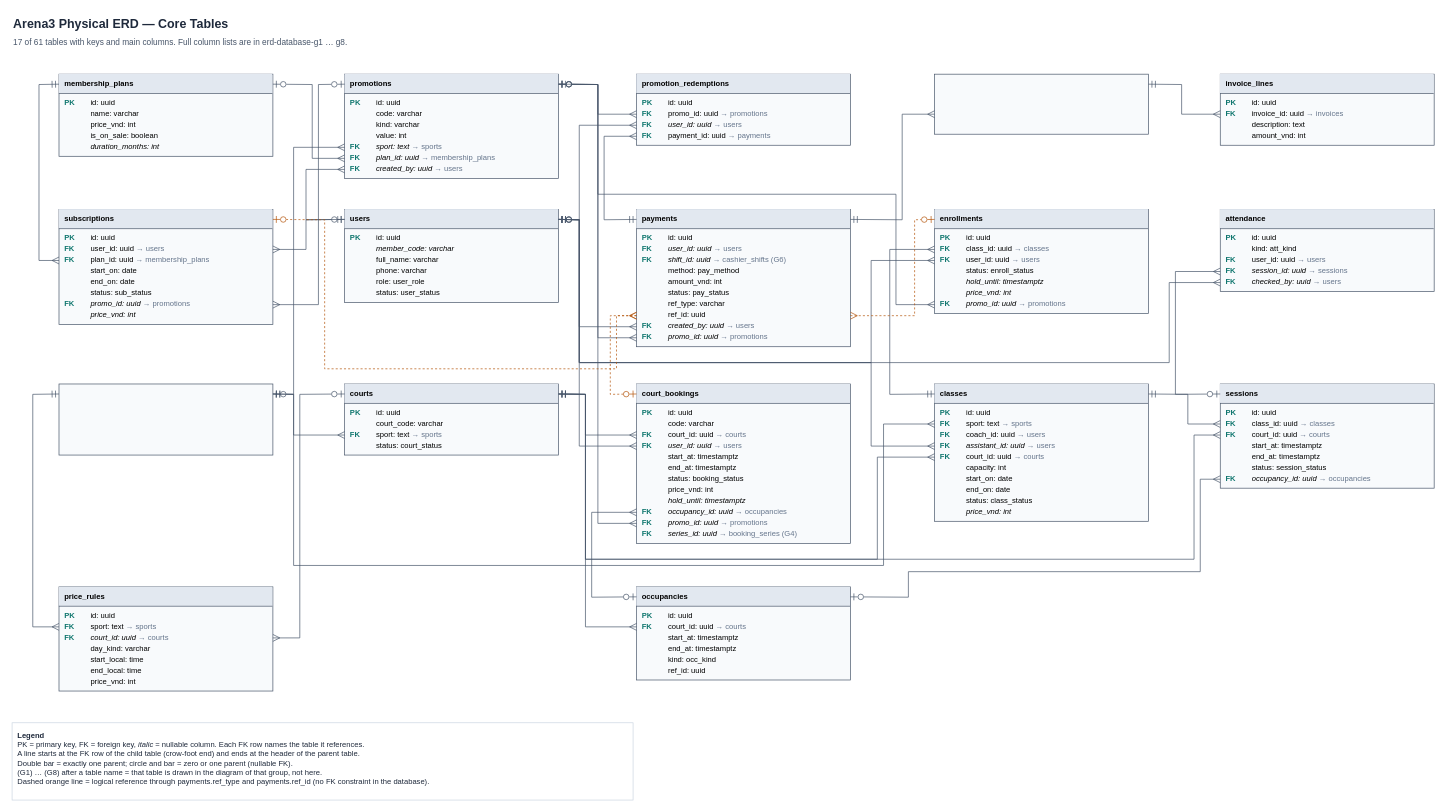
Some shapes in this 1446 by 812 pixel diagram are drawn without their labels. Each missing label, with the centre of its shape:
invoices PK id: uuid FK payment_id: uuid → payments total_vnd: int: the point at 1041,103
sports PK code: text name_en: varchar slot_duration_min: int enabled: boolean: the point at 165,419
